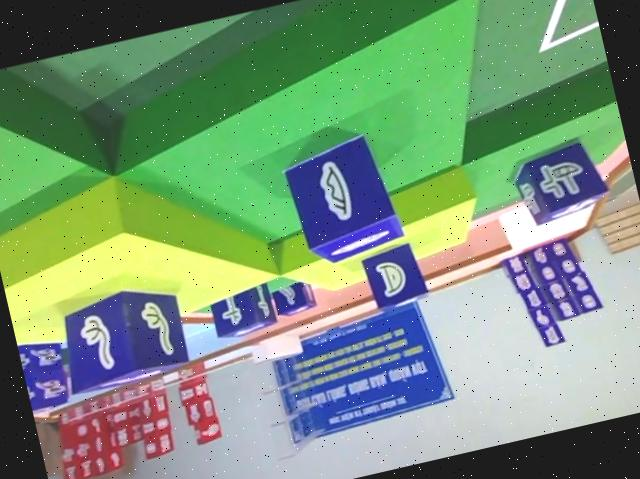R2 Real Blue: (279, 126, 407, 267), (54, 276, 195, 397), (507, 135, 612, 228), (357, 239, 429, 313), (205, 281, 278, 343), (269, 277, 318, 319)
